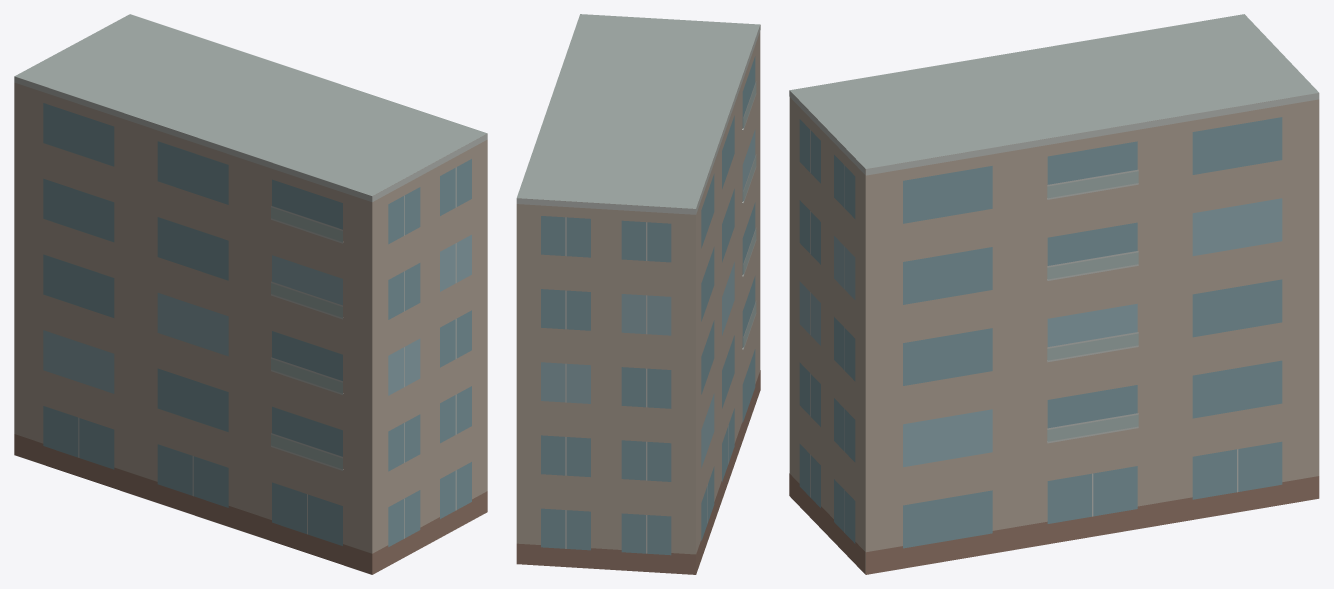
Rendered from survey-upis-32685200.glb.
The picture shows the model from 3 angles, left to right: view 1: azimuth 30°, elevation 25°; view 2: azimuth 150°, elevation 25°; view 3: azimuth 270°, elevation 25°; orthographic projection. The views are drawn at different scales.
Visible parts, largest first — view 1: survey-upis-32685200.tmp; view 2: survey-upis-32685200.tmp; view 3: survey-upis-32685200.tmp.
Boxes of the visible parts, box(x1,y1,x2,y2) form: survey-upis-32685200.tmp: box(14, 14, 487, 574); survey-upis-32685200.tmp: box(516, 14, 760, 574); survey-upis-32685200.tmp: box(789, 14, 1319, 574).
Bounding box in the file's own units: 12.47 × 15.2 × 18.
